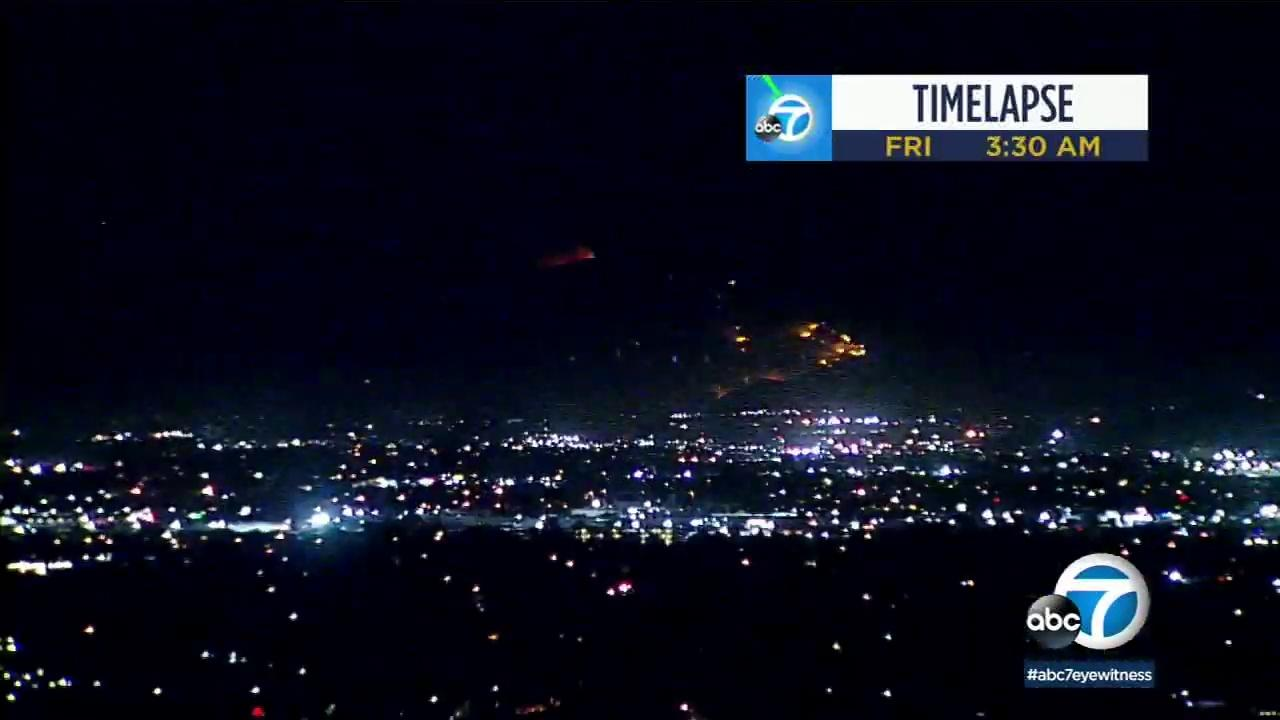Fire: (819, 335, 868, 367), (799, 321, 820, 340)
